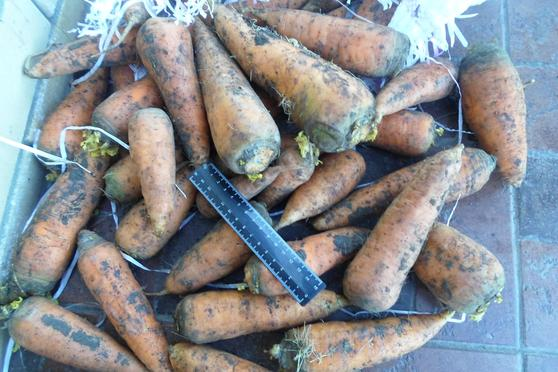carrot: (69, 235, 177, 371), (451, 43, 535, 190)
